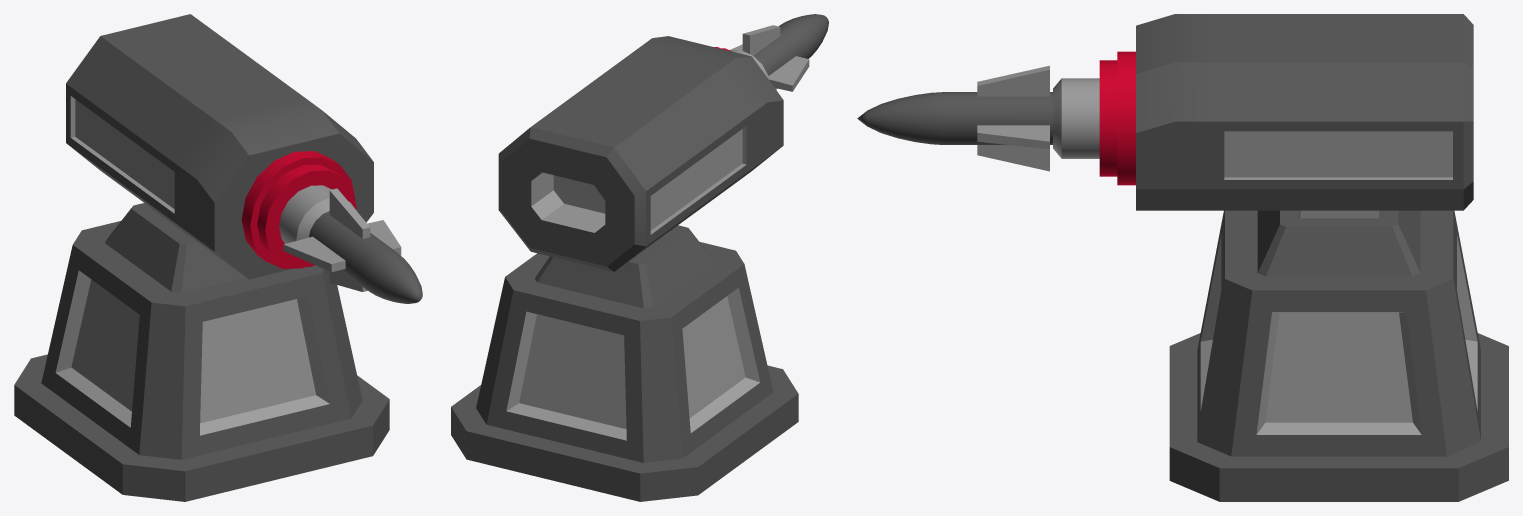
File: MissileLauncher.fbx
3 views of the same model, side by side, from view 1: azimuth 30°, elevation 25°; view 2: azimuth 150°, elevation 25°; view 3: azimuth 270°, elevation 25° (orthographic). The views are drawn at different scales.
Parts seen in each view (by area): view 1: Missile_Base, Missile_Head, Missile; view 2: Missile_Base, Missile_Head, Missile; view 3: Missile_Base, Missile_Head, Missile.
Boxes of the visible parts, x1=… form: Missile_Base: x1=14, y1=203, x2=389, y2=501; Missile_Head: x1=66, y1=14, x2=373, y2=279; Missile: x1=283, y1=188, x2=422, y2=303; Missile_Base: x1=451, y1=225, x2=798, y2=501; Missile_Head: x1=498, y1=36, x2=783, y2=271; Missile: x1=730, y1=14, x2=828, y2=91; Missile_Base: x1=1169, y1=210, x2=1508, y2=501; Missile_Head: x1=1053, y1=14, x2=1473, y2=210; Missile: x1=857, y1=65, x2=1052, y2=171.
Bounding box in the file's own units: 231 × 295 × 444.
